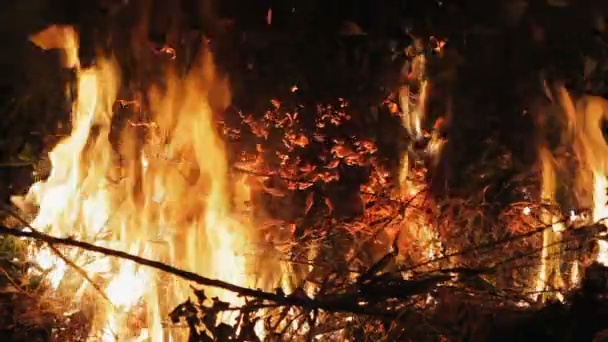fire: (11, 40, 319, 342), (514, 84, 608, 308), (351, 149, 441, 282), (393, 53, 430, 138)
